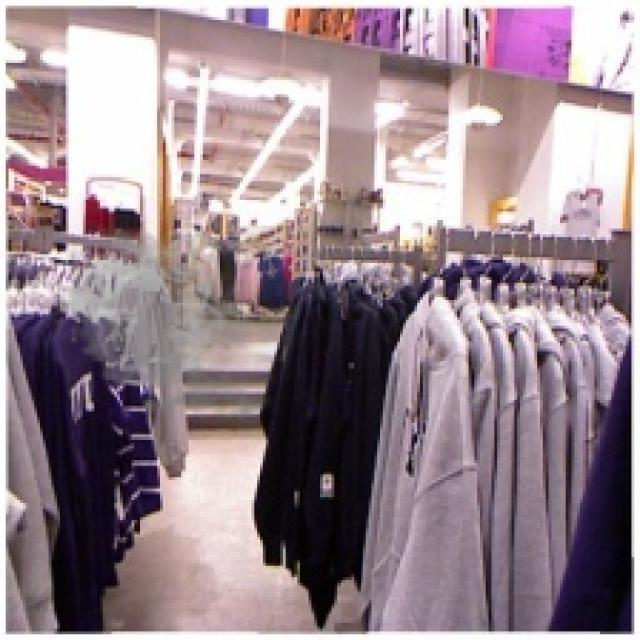smoke: (46, 225, 294, 426)
